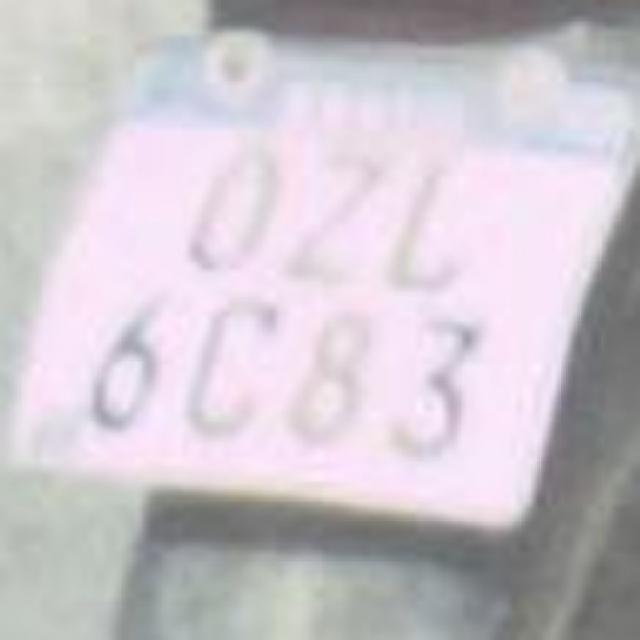3: (364, 284, 504, 471)
6: (71, 260, 184, 455)
8: (268, 280, 392, 465)
O: (164, 120, 296, 288)
Z: (269, 136, 396, 284)
